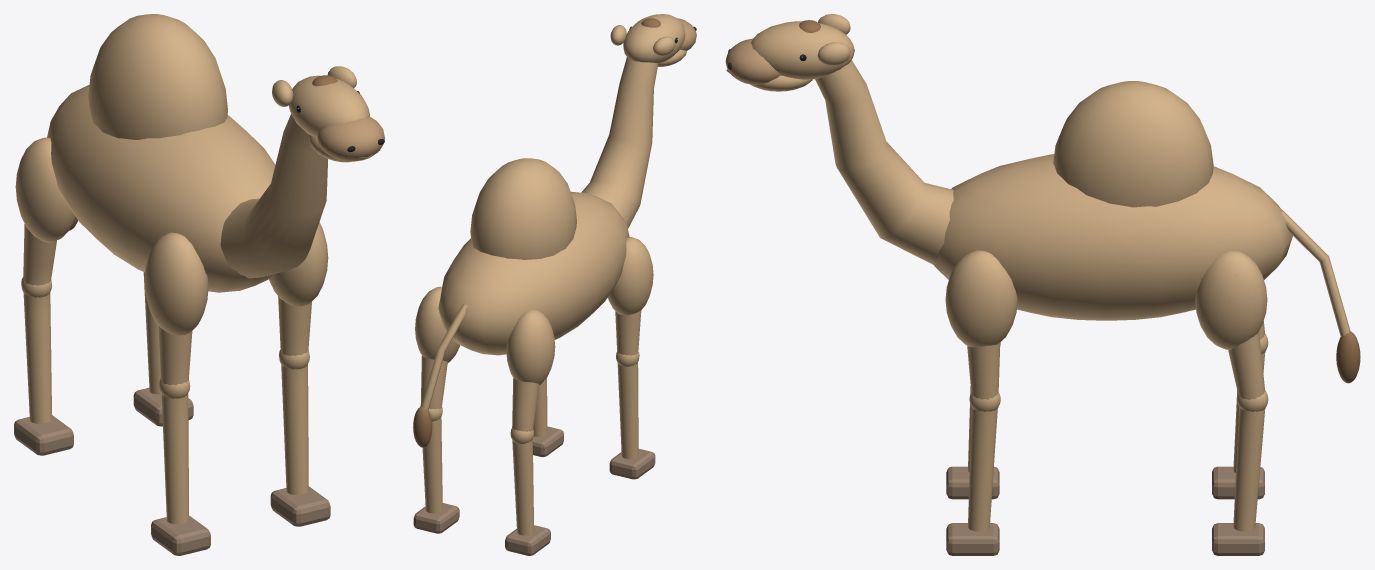
The model's file is animal_camel_dromedary.glb.
The picture shows the model from 3 angles, left to right: view 1: azimuth 30°, elevation 25°; view 2: azimuth 150°, elevation 25°; view 3: azimuth 270°, elevation 25°; orthographic projection. The views are drawn at different scales.
Visible parts, largest first — view 1: Camel_Long_Torso, Camel_Single_Dromedary_Hump, Camel_Long_Curving_Neck, Camel_Leg_Shoulder, Camel_Long_Leg.002, Camel_Long_Leg, Camel_Long_Leg.001, Camel_Leg_Shoulder.001, Camel_Head, Camel_Leg_Shoulder.002, Camel_Long_Muzzle, Camel_Grounded_Padded_Foot.002 (+5 smaller); view 2: Camel_Long_Torso, Camel_Single_Dromedary_Hump, Camel_Long_Curving_Neck, Camel_Long_Leg.001, Camel_Leg_Shoulder.001, Camel_Long_Leg, Camel_Long_Leg.003, Camel_Leg_Shoulder, Camel_Head, Camel_Leg_Shoulder.003, Camel_Attached_Tail, Camel_Grounded_Padded_Foot (+5 smaller); view 3: Camel_Long_Torso, Camel_Single_Dromedary_Hump, Camel_Long_Curving_Neck, Camel_Leg_Shoulder.002, Camel_Leg_Shoulder.003, Camel_Long_Leg.003, Camel_Long_Leg.002, Camel_Head, Camel_Grounded_Padded_Foot.002, Camel_Attached_Tail, Camel_Grounded_Padded_Foot.003, Camel_Long_Muzzle (+3 smaller).
Part boxes in pixels (x1,y1,x2,y2): Camel_Long_Torso: (47,85,275,292); Camel_Single_Dromedary_Hump: (88,14,227,139); Camel_Long_Curving_Neck: (220,114,327,278); Camel_Leg_Shoulder: (144,232,208,335); Camel_Long_Leg.002: (278,296,311,494); Camel_Long_Leg: (158,325,192,524); Camel_Long_Leg.001: (23,158,56,423); Camel_Leg_Shoulder.001: (15,137,75,242); Camel_Head: (289,75,369,137); Camel_Leg_Shoulder.002: (269,222,328,306); Camel_Long_Muzzle: (317,116,384,161); Camel_Grounded_Padded_Foot.002: (270,486,330,526); Camel_Long_Torso: (438,191,629,355); Camel_Single_Dromedary_Hump: (470,158,576,259); Camel_Long_Curving_Neck: (581,57,658,228); Camel_Long_Leg.001: (512,378,538,535); Camel_Leg_Shoulder.001: (506,309,555,385); Camel_Long_Leg: (615,310,641,459); Camel_Long_Leg.003: (420,356,447,513); Camel_Leg_Shoulder: (608,237,653,315); Camel_Head: (623,14,685,63); Camel_Leg_Shoulder.003: (415,286,459,362); Camel_Attached_Tail: (421,303,467,410); Camel_Grounded_Padded_Foot: (609,449,655,479); Camel_Long_Torso: (933,154,1292,320); Camel_Single_Dromedary_Hump: (1053,81,1213,207); Camel_Long_Curving_Neck: (815,60,953,264); Camel_Leg_Shoulder.002: (945,250,1017,347); Camel_Leg_Shoulder.003: (1195,250,1267,349); Camel_Long_Leg.003: (1228,275,1265,531); Camel_Long_Leg.002: (967,343,1000,531); Camel_Head: (751,21,854,79); Camel_Grounded_Padded_Foot.002: (946,523,999,555); Camel_Attached_Tail: (1280,210,1350,336); Camel_Grounded_Padded_Foot.003: (1212,523,1264,555); Camel_Long_Muzzle: (725,38,780,84).
Bounding box in the file's own units: 0.824 × 2.36 × 2.72.
